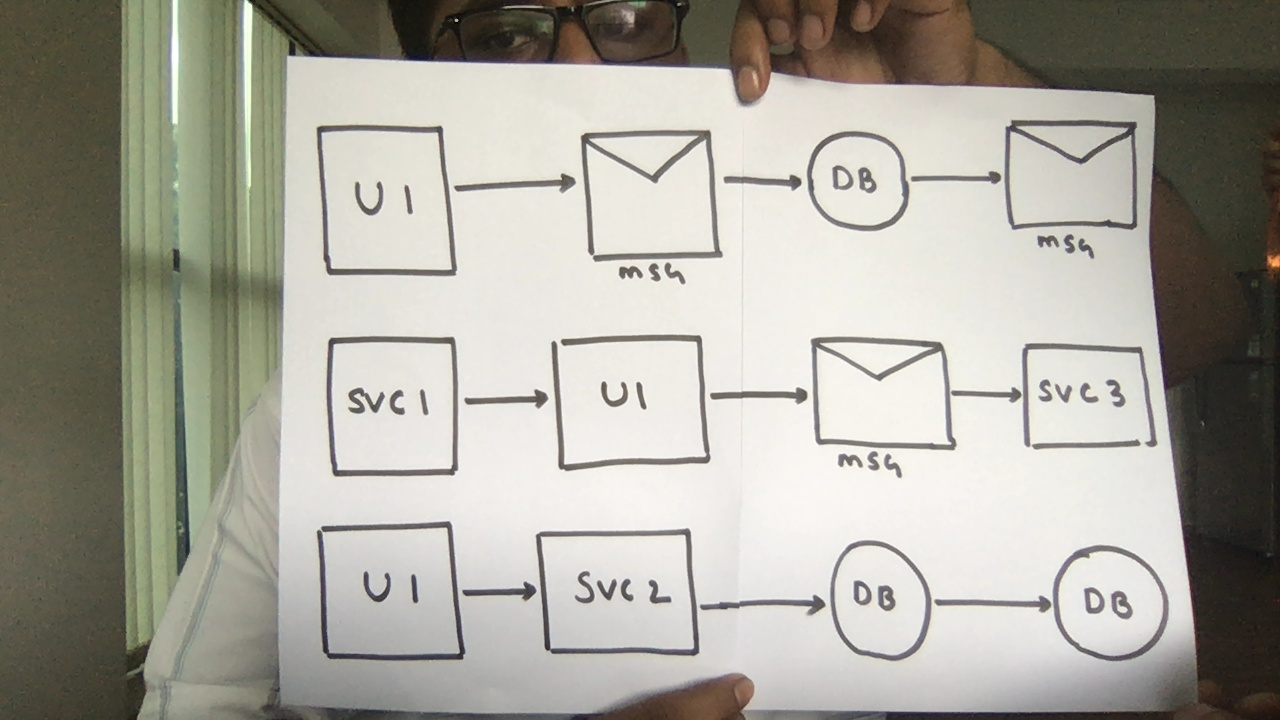arrow: (450, 158, 586, 221), (930, 580, 1060, 637), (699, 581, 833, 635), (459, 372, 556, 430), (709, 375, 817, 424), (909, 159, 1013, 207), (718, 159, 810, 208), (941, 374, 1028, 418), (458, 570, 540, 615)
db: (1045, 541, 1175, 665), (825, 534, 939, 668), (804, 124, 918, 238)
ec2: (319, 330, 467, 484), (1016, 334, 1162, 465)
sns: (573, 120, 733, 288), (804, 328, 970, 478), (1003, 110, 1145, 257)
ui: (309, 111, 464, 291), (311, 515, 474, 672), (546, 328, 718, 473)
